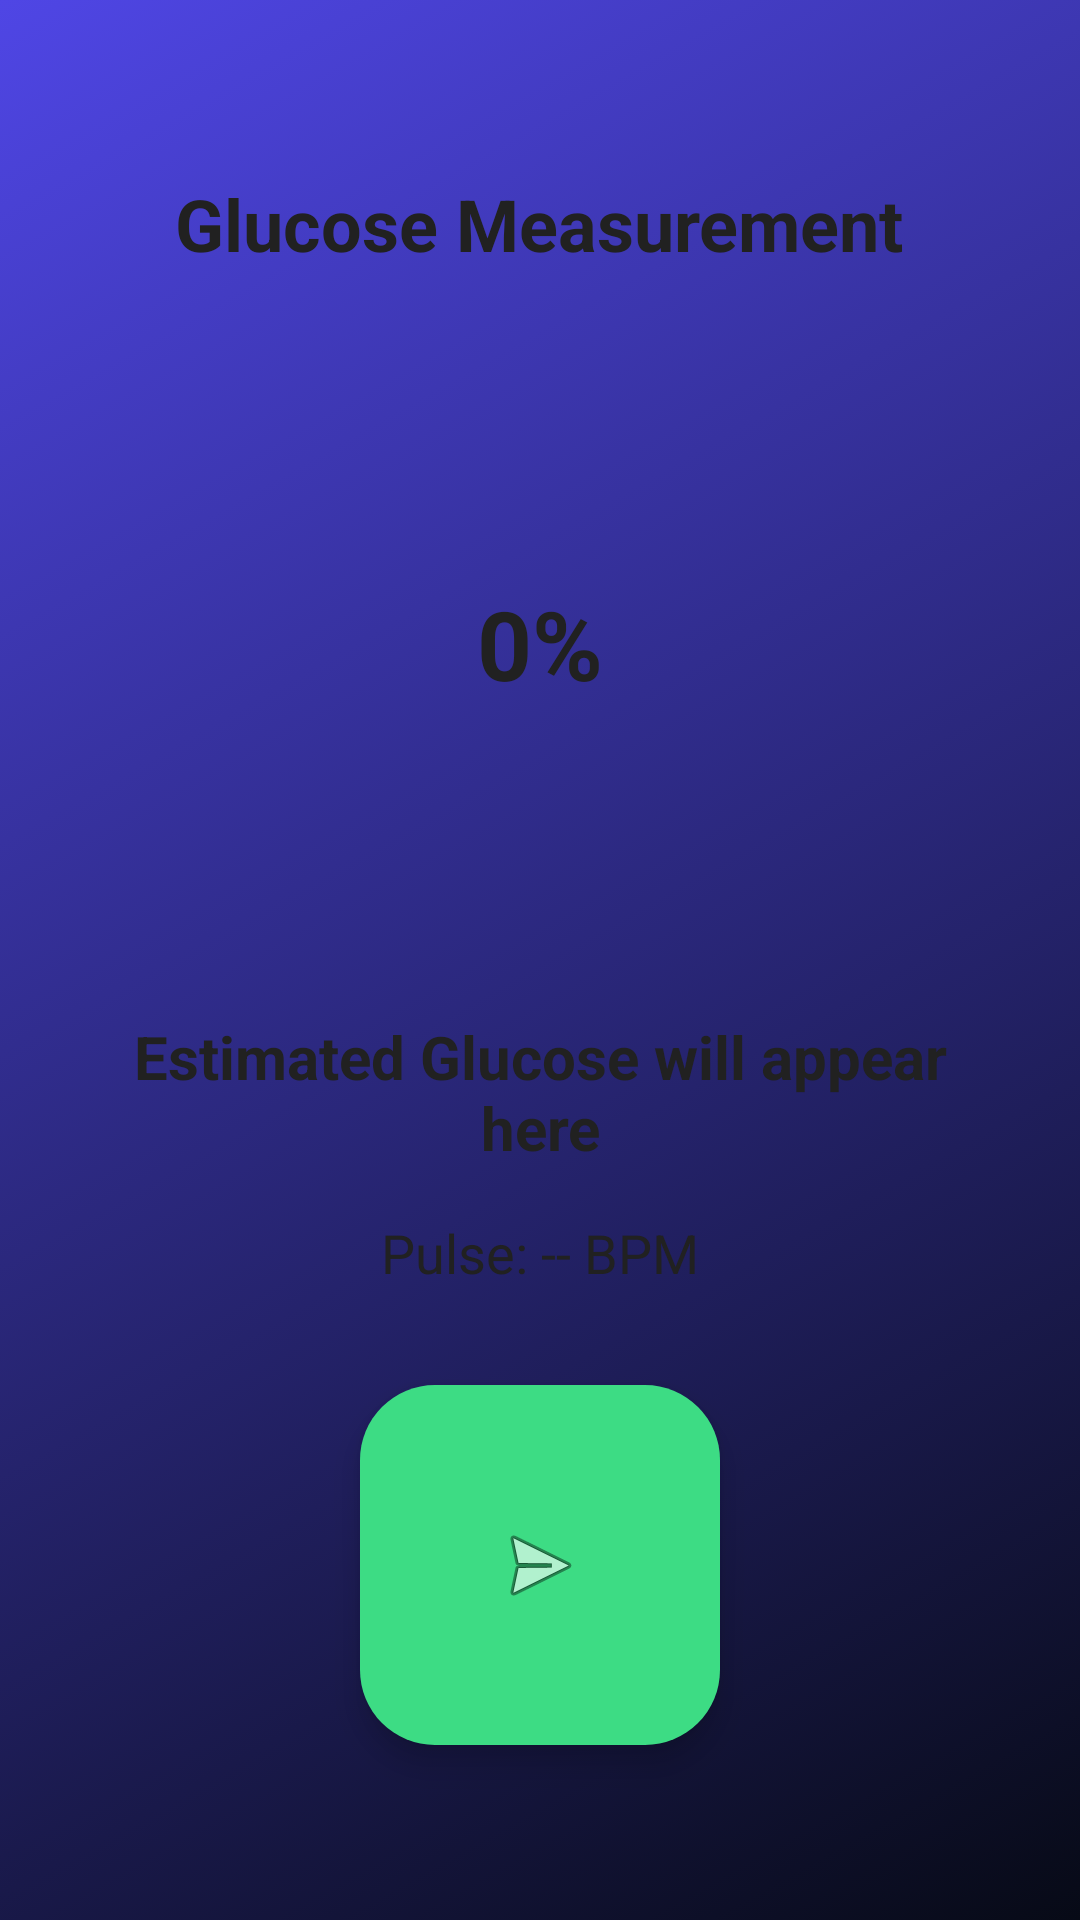

Point at icon controls on the screen. Image size 1080 x 1920, points as point (x, y).
Send via Email: point (540, 1565)
